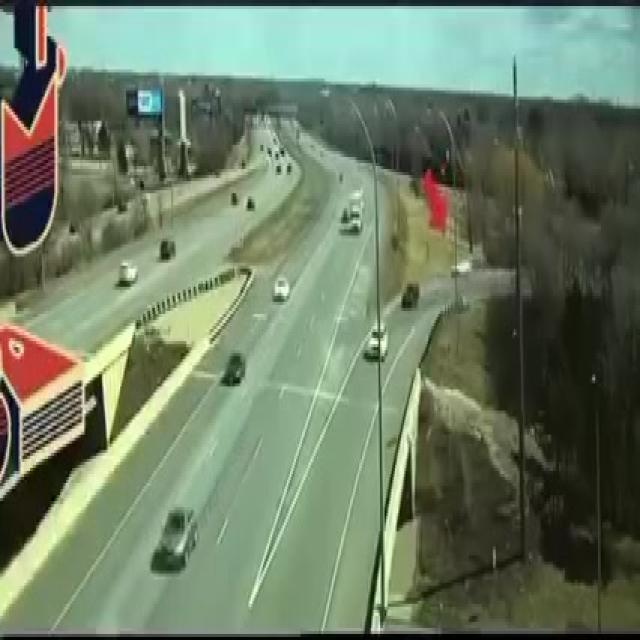normal: (361, 270, 423, 370), (112, 233, 179, 294), (339, 181, 367, 244)
